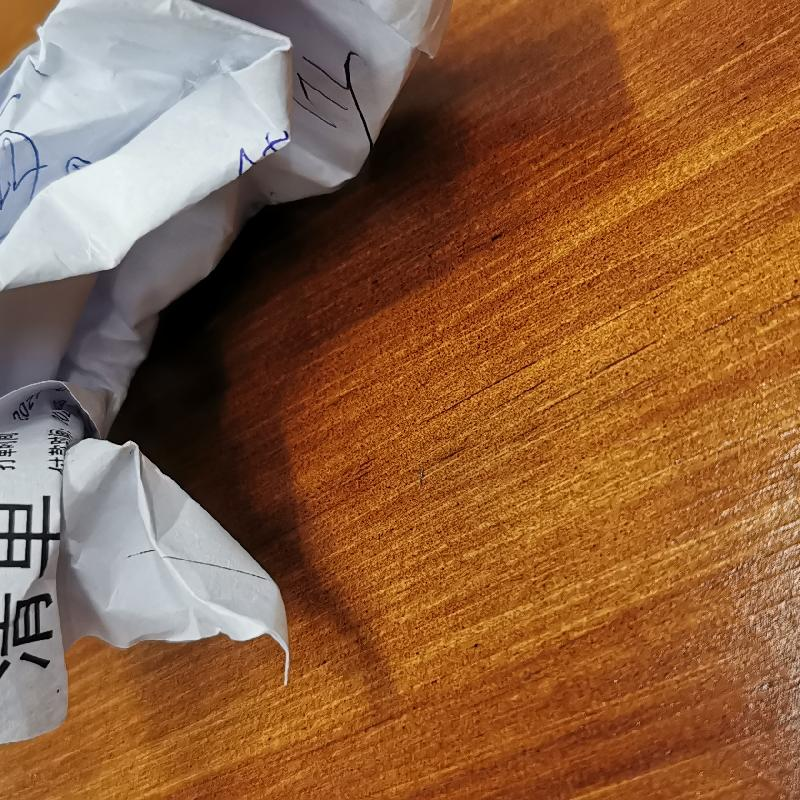spitball: (1, 1, 455, 745)
